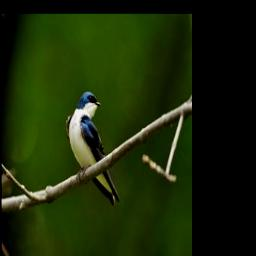Swallow: (65, 90, 121, 206)
